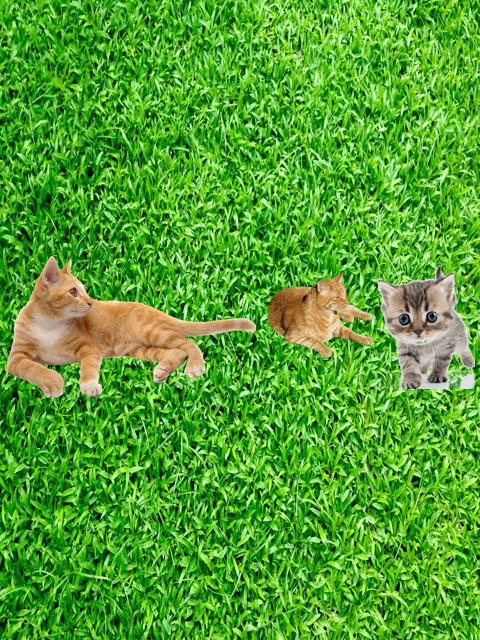cat: (9, 256, 254, 399), (378, 267, 473, 387), (268, 272, 373, 357)
